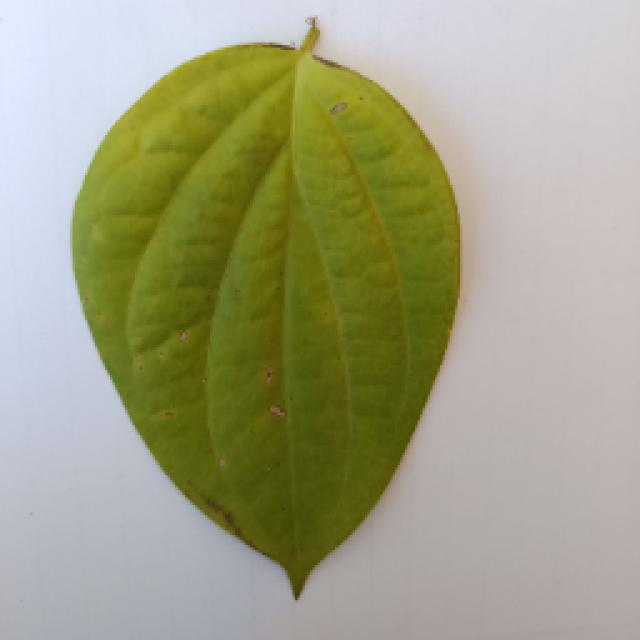slow-decline: (45, 30, 490, 605)
